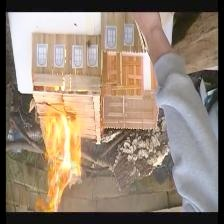fire: (25, 101, 88, 211)
